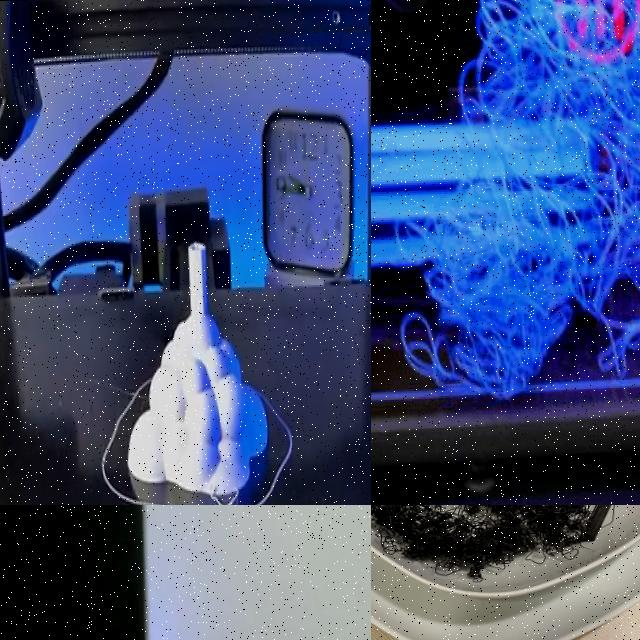spaghetti: (371, 505, 640, 601)
